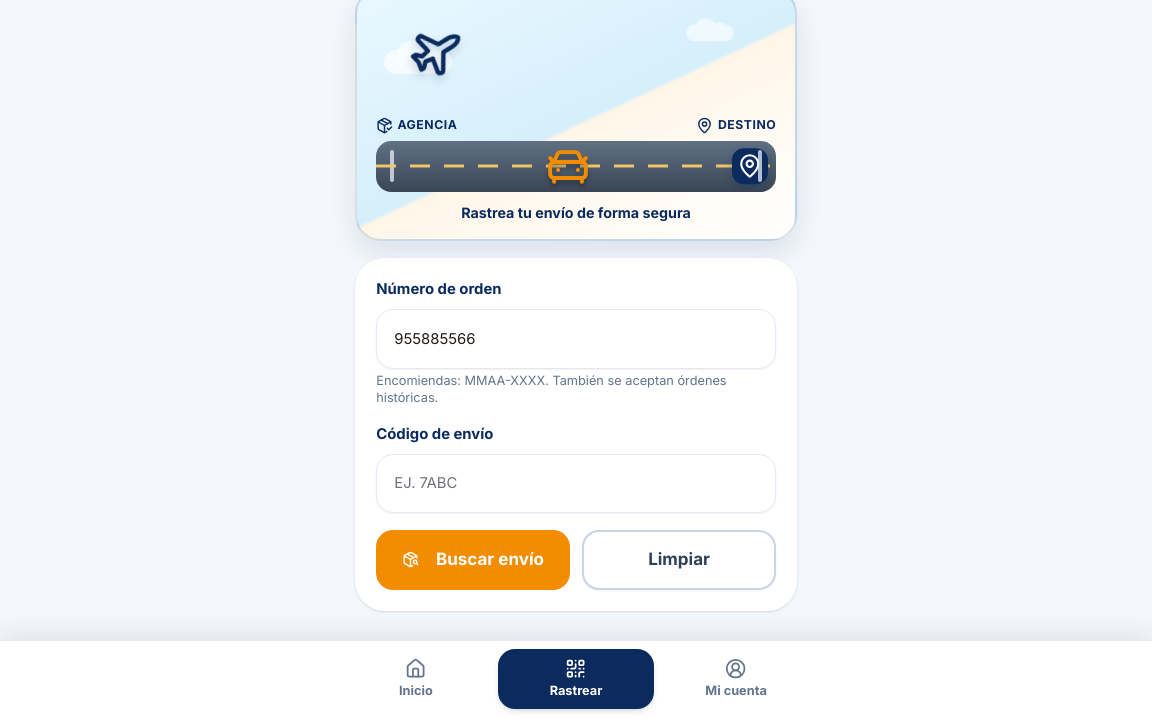
Test: MobileAppPage › detecta errores de orden y código antes de buscar y limita la longitud
Earlier steps of the test are not shown.
(page scrolled)
Type "7AB" into the field named "Código de envío móvil".
click(576, 483); type("7AB")  # box [376,454,776,513]
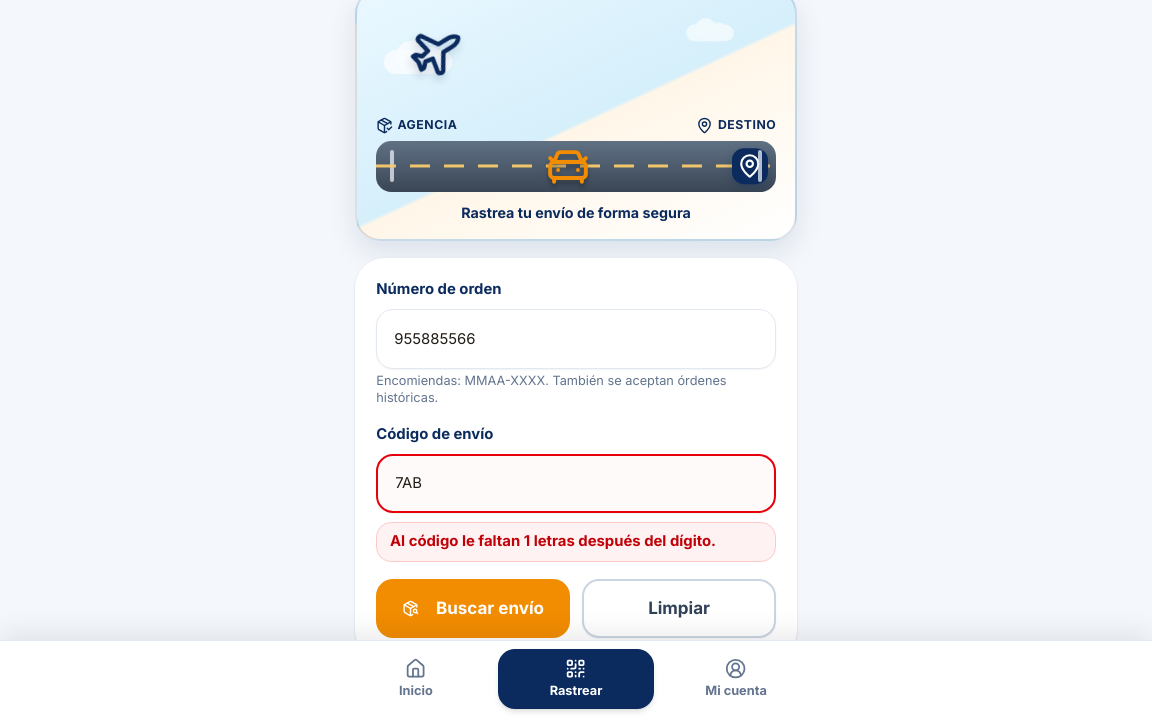
Expected: the text "Al código le faltan 1 letras después del dígito." is shown, [376,522,776,562]
Click the button "Buscar envío".
click(473, 609)  # box [376,579,570,638]
(page scrolled)
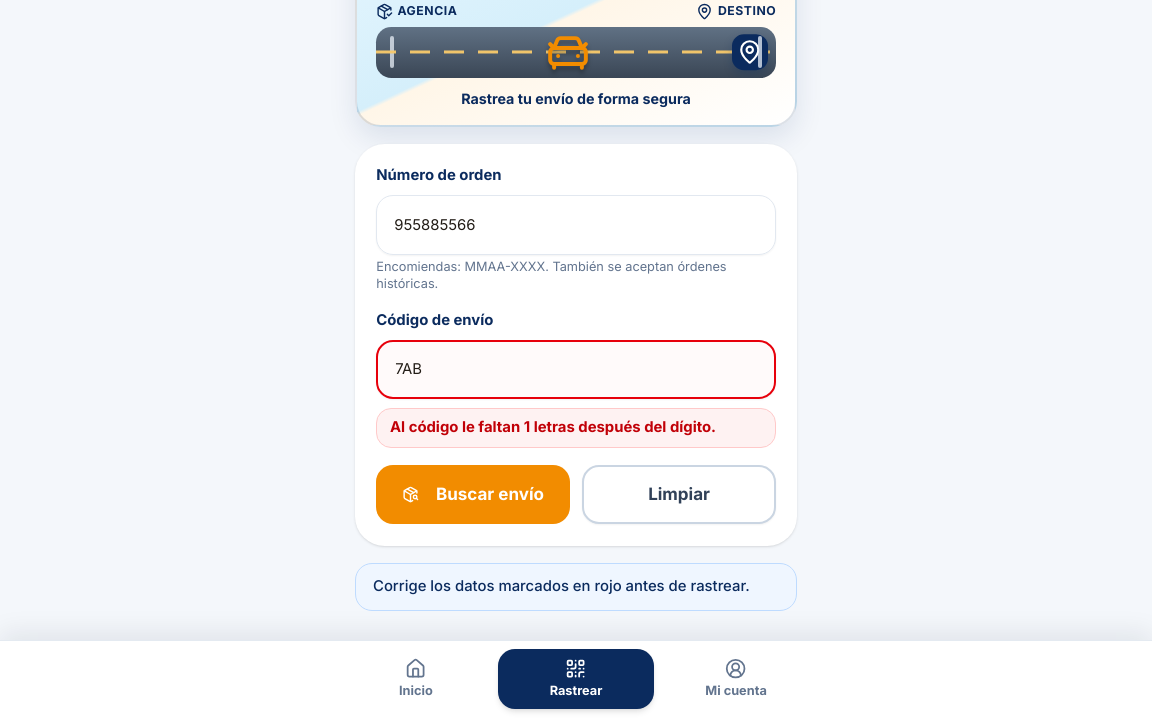
Expected: the text "Corrige los datos marcados en rojo antes de rastrear." is shown, [355,563,797,612]
